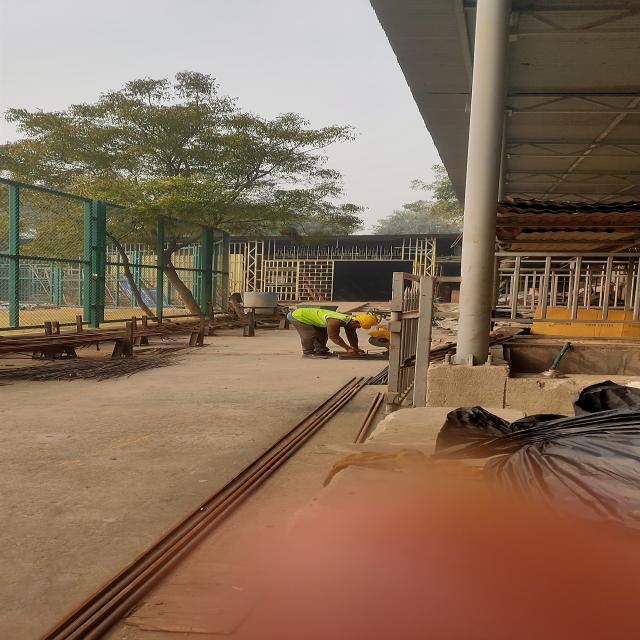safe: (288, 307, 380, 361)
